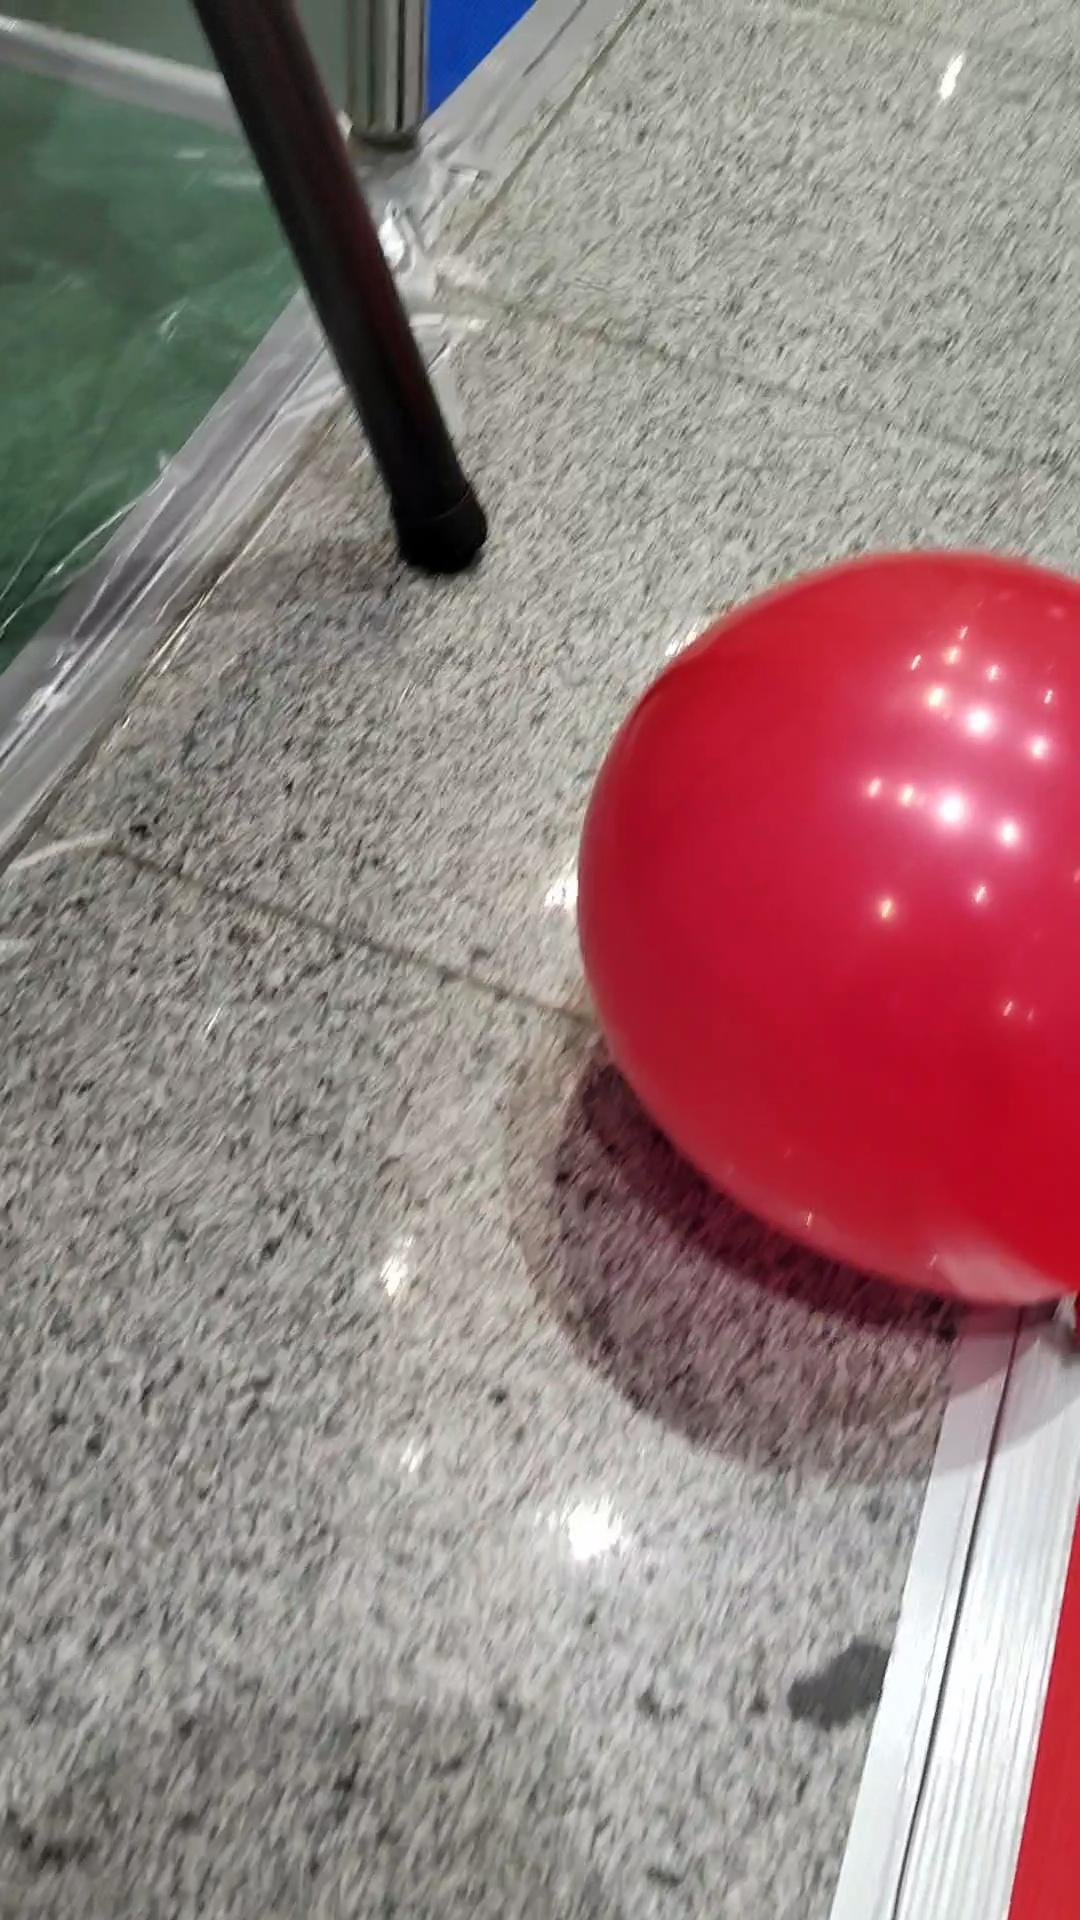red: (560, 545, 1080, 1302)
